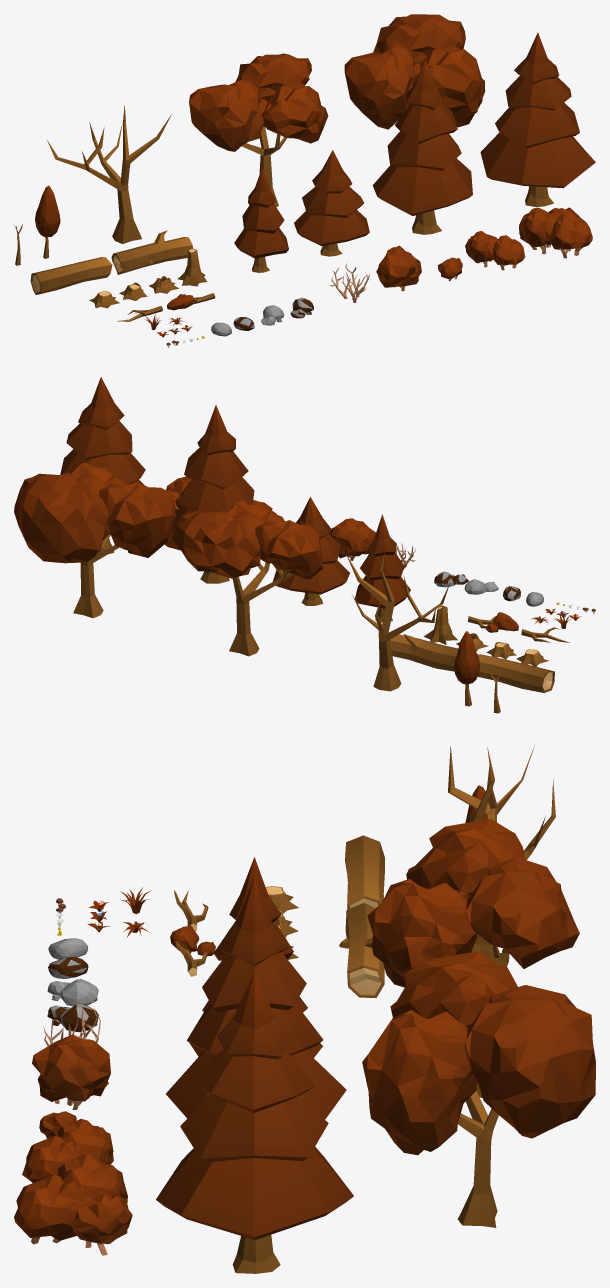
Rendered from Arbol_Hojas3_rojo.fbx.
The picture shows the model from 3 angles, top to bottom: view 1: azimuth 30°, elevation 25°; view 2: azimuth 150°, elevation 25°; view 3: azimuth 270°, elevation 25°; orthographic projection. The views are drawn at different scales.
Parts seen in each view (by area): view 1: Tree_average_lush, Tree_Spruce_small_02, Tree_average_regular, Tree_Spruce_small_01, Tree_Spruce_tiny_02, Tree_Spruce_tiny_01, Tree_average_bare, Bush_group_big, Log_big_knotty, Log_big_regular, Bush_group_average, Bush_average (+4 smaller); view 2: Tree_average_lush, Tree_average_regular, Tree_Spruce_small_01, Tree_Spruce_small_02, Tree_Spruce_tiny_02, Tree_average_bare, Tree_Spruce_tiny_01, Log_big_regular, Log_big_knotty, Bush_average, Tree_small_regular, Stump_average_high (+1 smaller); view 3: Tree_average_lush, Tree_Spruce_small_02, Tree_average_regular, Tree_Spruce_small_01, Bush_group_big, Bush_average, Bush_group_average, Log_big_knotty, Log_big_regular, Tree_average_bare, Tree_Spruce_tiny_01, Branch_average_leaves (+3 smaller).
Boxes of the visible parts, box(x1,y1,x2,y2) form: Tree_average_lush: box(344, 14, 485, 129); Tree_Spruce_small_02: box(480, 32, 595, 207); Tree_average_regular: box(189, 53, 328, 207); Tree_Spruce_small_01: box(372, 60, 472, 234); Tree_Spruce_tiny_02: box(294, 150, 369, 256); Tree_Spruce_tiny_01: box(234, 167, 288, 272); Tree_average_bare: box(47, 105, 171, 243); Bush_group_big: box(519, 207, 592, 258); Log_big_knotty: box(111, 230, 192, 274); Log_big_regular: box(30, 257, 112, 294); Bush_group_average: box(465, 231, 525, 270); Bush_average: box(376, 245, 421, 291); Tree_average_lush: box(14, 462, 175, 618); Tree_average_regular: box(172, 501, 322, 656); Tree_Spruce_small_01: box(165, 405, 254, 583); Tree_Spruce_small_02: box(60, 377, 145, 554); Tree_Spruce_tiny_02: box(273, 497, 349, 605); Tree_average_bare: box(346, 552, 449, 691); Tree_Spruce_tiny_01: box(355, 514, 410, 622); Log_big_regular: box(477, 654, 554, 692); Log_big_knotty: box(390, 634, 458, 671); Bush_average: box(329, 518, 375, 560); Tree_small_regular: box(454, 631, 479, 706); Stump_average_high: box(424, 605, 457, 644); Tree_average_lush: box(362, 951, 595, 1227); Tree_Spruce_small_02: box(156, 972, 353, 1273); Tree_average_regular: box(367, 819, 579, 1097); Tree_Spruce_small_01: box(166, 877, 346, 1119); Bush_group_big: box(14, 1153, 132, 1255); Bush_average: box(32, 1034, 110, 1109); Bush_group_average: box(22, 1119, 113, 1182); Log_big_knotty: box(339, 903, 384, 997); Log_big_regular: box(345, 835, 384, 909); Tree_average_bare: box(448, 745, 555, 964); Tree_Spruce_tiny_01: box(213, 857, 293, 960); Branch_average_leaves: box(170, 925, 215, 976).
Size of the model in its own units: 5841 by 1832 by 3295.
